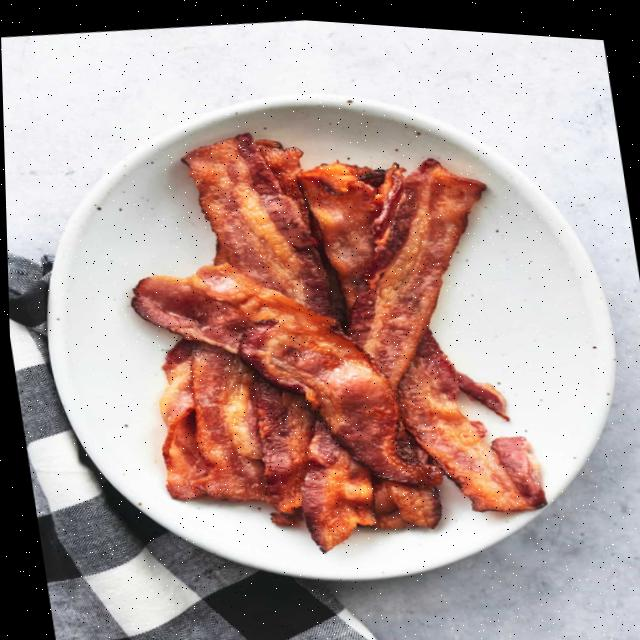Bacon: (129, 261, 437, 480), (348, 152, 485, 380), (182, 130, 334, 312), (395, 325, 544, 504)
